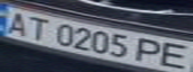0: (48, 20, 75, 48), (90, 28, 112, 56)
2: (69, 25, 93, 53)
5: (109, 30, 133, 61)
A: (0, 9, 33, 36)
E: (157, 39, 193, 71)
P: (133, 36, 169, 66)
T: (21, 13, 54, 42)
